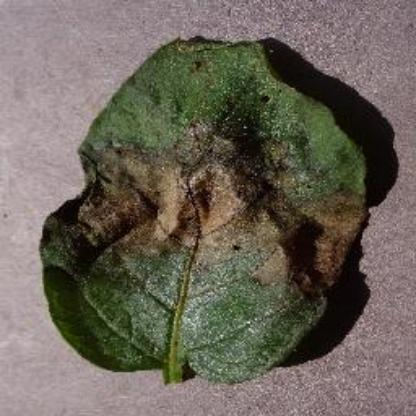Late-Blight: (35, 28, 375, 395)
